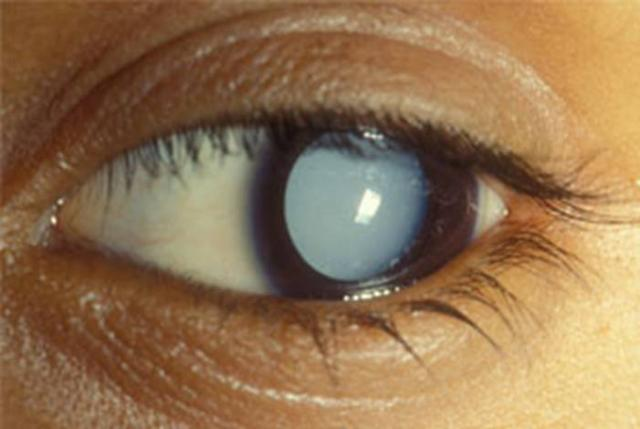eye: (250, 112, 480, 308)
